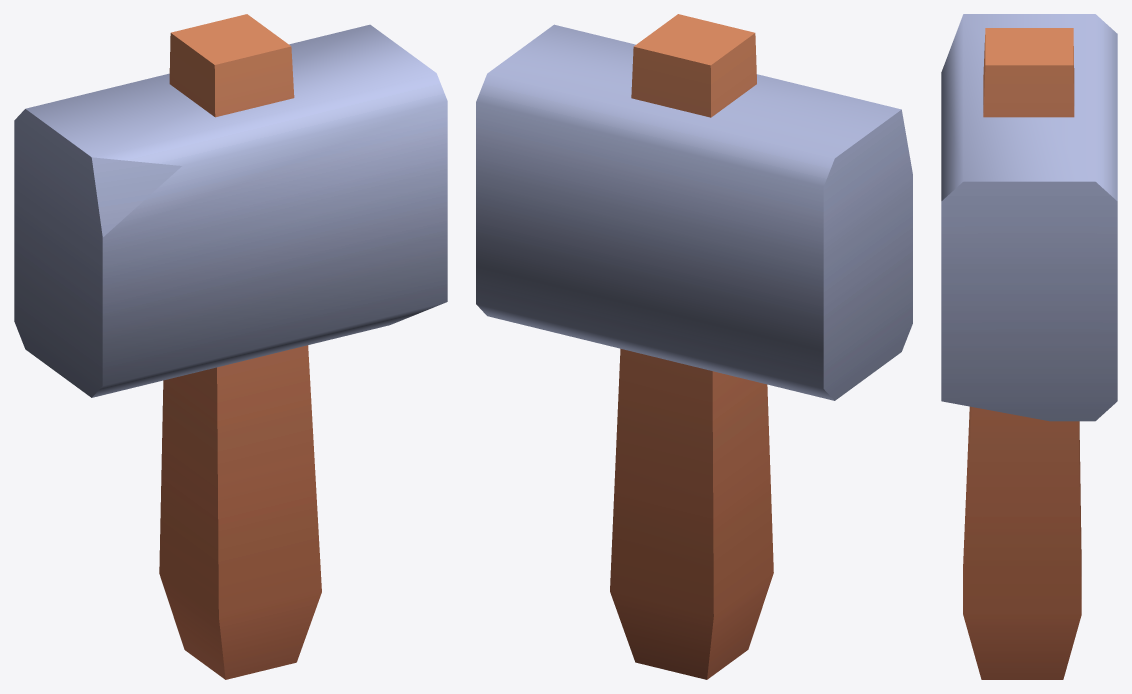
File: hammer.glb
3 renders of one model, left to right at view 1: azimuth 30°, elevation 25°; view 2: azimuth 150°, elevation 25°; view 3: azimuth 270°, elevation 25°, orthographic.
Parts seen in each view (by area): view 1: tool-hammer; view 2: tool-hammer; view 3: tool-hammer.
Part boxes in pixels (<box>): tool-hammer: <box>14,14,447,679</box>; tool-hammer: <box>476,14,912,679</box>; tool-hammer: <box>941,14,1117,679</box>.
Bounding box in the file's own units: 0.09 × 0.1535 × 0.04.
Materials: 1 (1 with a texture image).
